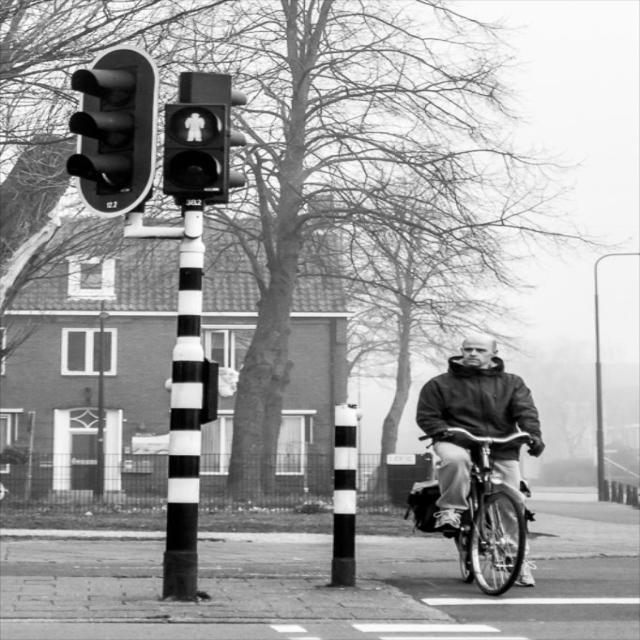traffic light: (56, 58, 141, 209), (165, 98, 234, 202)
